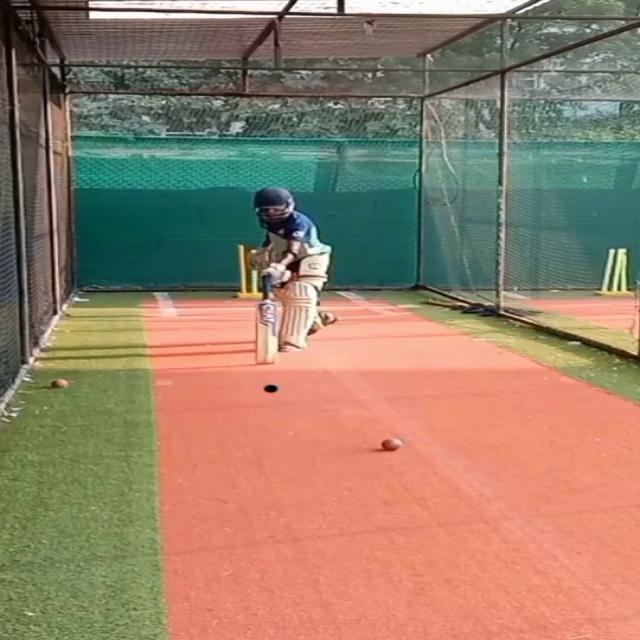ball: (377, 437, 403, 451), (46, 376, 71, 389)
stump: (233, 243, 262, 298)
